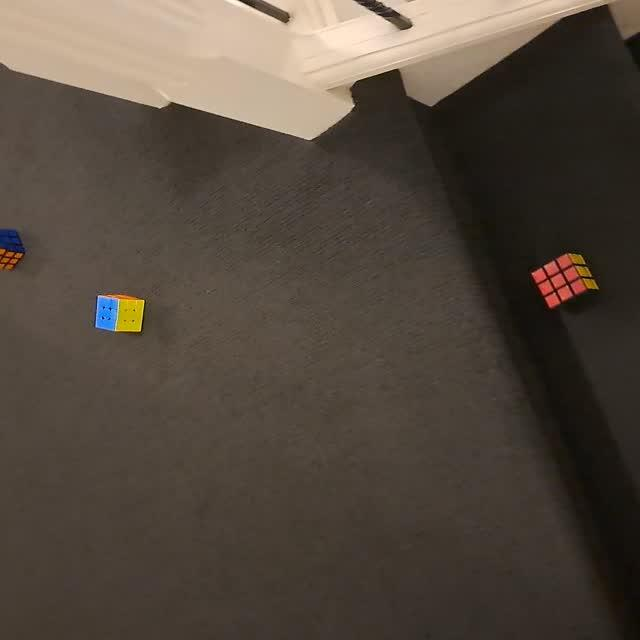rubix_cube: (525, 248, 603, 314), (89, 291, 149, 338), (1, 228, 28, 276)
